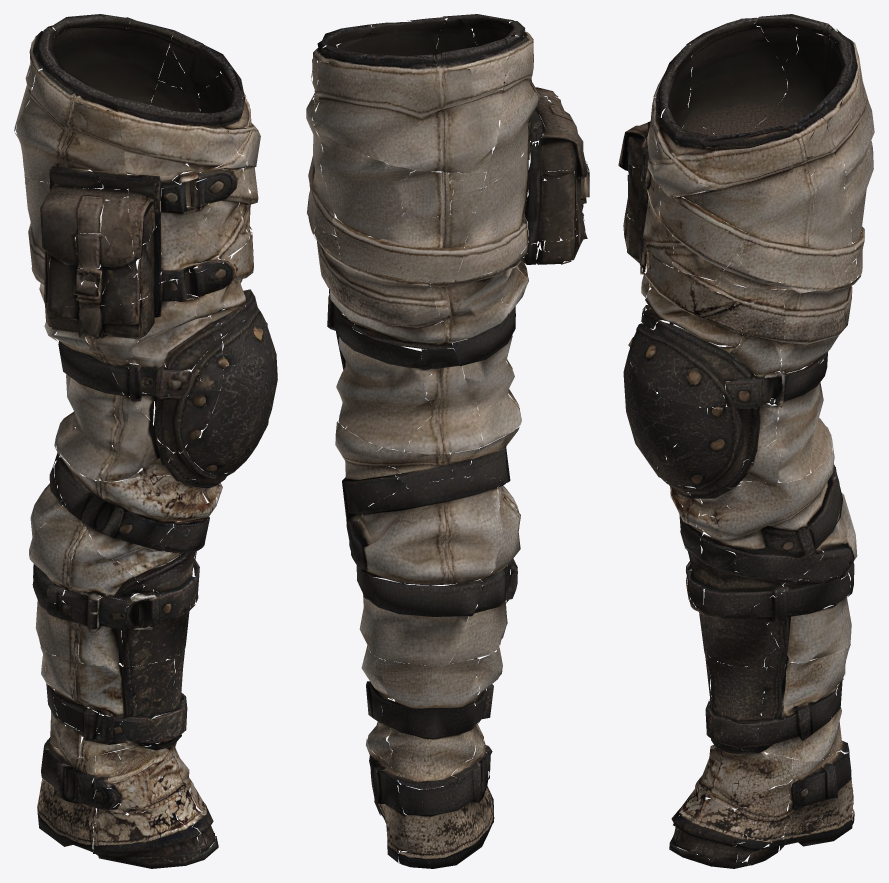
Rendered from a_ward_greaves.glb.
3 views of the same model, side by side, from view 1: azimuth 30°, elevation 25°; view 2: azimuth 150°, elevation 25°; view 3: azimuth 270°, elevation 25° (orthographic). The views are drawn at different scales.
Visible parts, largest first — view 1: tripo_node_50fa23ae-e174-44a2-a016-1e0c5b5d46d9; view 2: tripo_node_50fa23ae-e174-44a2-a016-1e0c5b5d46d9; view 3: tripo_node_50fa23ae-e174-44a2-a016-1e0c5b5d46d9.
Boxes of the visible parts, x1,y1,x2,y2 form: tripo_node_50fa23ae-e174-44a2-a016-1e0c5b5d46d9: (14,14,277,868); tripo_node_50fa23ae-e174-44a2-a016-1e0c5b5d46d9: (306,14,589,868); tripo_node_50fa23ae-e174-44a2-a016-1e0c5b5d46d9: (618,14,874,868).
Bounding box in the file's own units: 0.0959 × 0.32 × 0.0936.
Materials: 1 (1 with a texture image).
